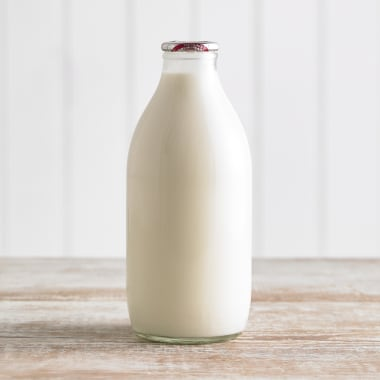glass of milk: (120, 34, 263, 352)
